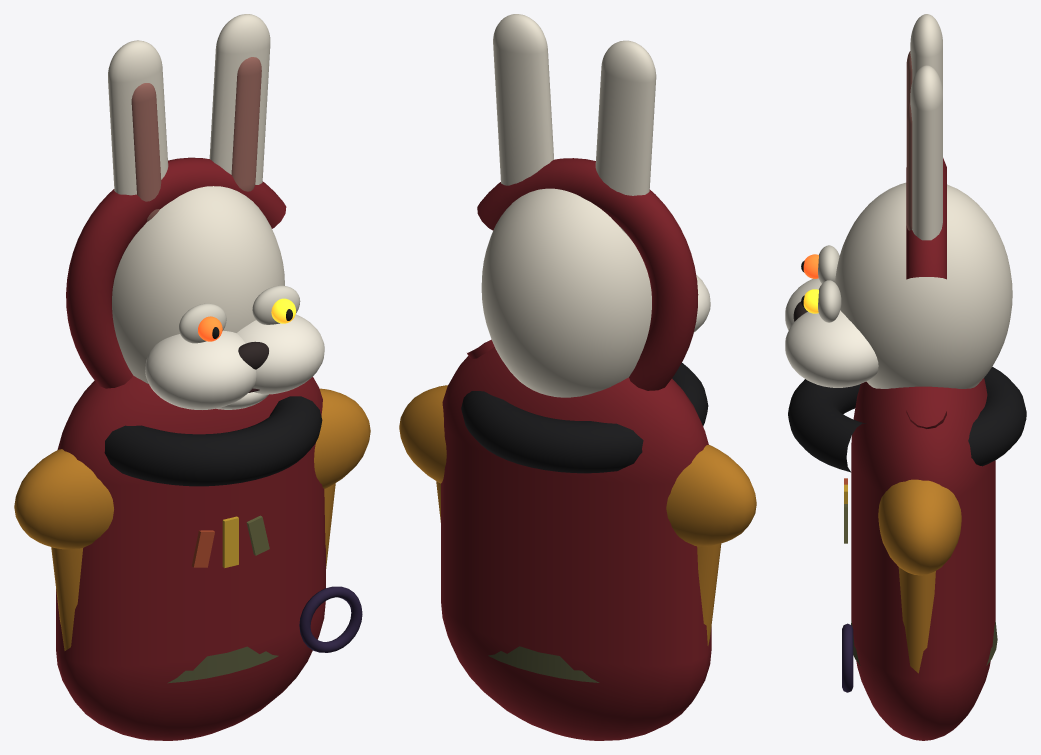
Rendered from enki-organic-v0.glb.
3 renders of one model, left to right at view 1: azimuth 30°, elevation 25°; view 2: azimuth 150°, elevation 25°; view 3: azimuth 270°, elevation 25°, orthographic. The views are drawn at different scales.
Parts seen in each view (by area): view 1: Torso, Skull, Hood, Collar, Shoulder_L, Cheek_L, EarOuter_R, EarOuter_L, Cheek_R, Shoulder_R, EarInner_R, EarInner_L (+9 smaller); view 2: Torso, Skull, Hood, Collar, EarOuter_R, EarOuter_L, Shoulder_L, Shoulder_R, CargoWaist, Parka_L; view 3: Torso, Skull, Collar, Shoulder_R, Cheek_R, EarOuter_R, Parka_R, Hood, EarOuter_L, EarInner_R, EyeGlobe_R, PurpleAccent (+2 smaller).
Boxes of the visible parts, x1=… form: Torso: x1=56, y1=375, x2=325, y2=740; Skull: x1=112, y1=186, x2=284, y2=383; Hood: x1=66, y1=157, x2=286, y2=388; Collar: x1=104, y1=396, x2=322, y2=486; Shoulder_L: x1=14, y1=449, x2=113, y2=549; Cheek_L: x1=145, y1=330, x2=256, y2=409; EarOuter_R: x1=209, y1=14, x2=270, y2=184; EarOuter_L: x1=108, y1=40, x2=168, y2=195; Cheek_R: x1=237, y1=314, x2=324, y2=394; Shoulder_R: x1=314, y1=388, x2=370, y2=488; EarInner_R: x1=231, y1=57, x2=261, y2=191; EarInner_L: x1=131, y1=83, x2=161, y2=221; Torso: x1=441, y1=340, x2=711, y2=740; Skull: x1=481, y1=188, x2=651, y2=397; Hood: x1=467, y1=158, x2=698, y2=390; Collar: x1=461, y1=363, x2=708, y2=473; EarOuter_R: x1=493, y1=14, x2=554, y2=185; EarOuter_L: x1=595, y1=40, x2=656, y2=238; Shoulder_L: x1=666, y1=445, x2=756, y2=546; Shoulder_R: x1=399, y1=385, x2=447, y2=483; CargoWaist: x1=488, y1=646, x2=599, y2=682; Parka_L: x1=697, y1=543, x2=721, y2=645; Torso: x1=851, y1=378, x2=995, y2=740; Skull: x1=835, y1=182, x2=1012, y2=388; Collar: x1=788, y1=367, x2=1026, y2=472; Shoulder_R: x1=878, y1=479, x2=961, y2=575; Cheek_R: x1=785, y1=310, x2=878, y2=387; EarOuter_R: x1=910, y1=65, x2=942, y2=240; Parka_R: x1=898, y1=567, x2=935, y2=673; Hood: x1=906, y1=158, x2=946, y2=428; EarOuter_L: x1=910, y1=14, x2=942, y2=89; EarInner_R: x1=906, y1=101, x2=912, y2=230; EyeGlobe_R: x1=818, y1=280, x2=841, y2=322; PurpleAccent: x1=842, y1=623, x2=853, y2=692.
Bounding box in the file's own units: 2.43 × 4.66 × 1.5.
